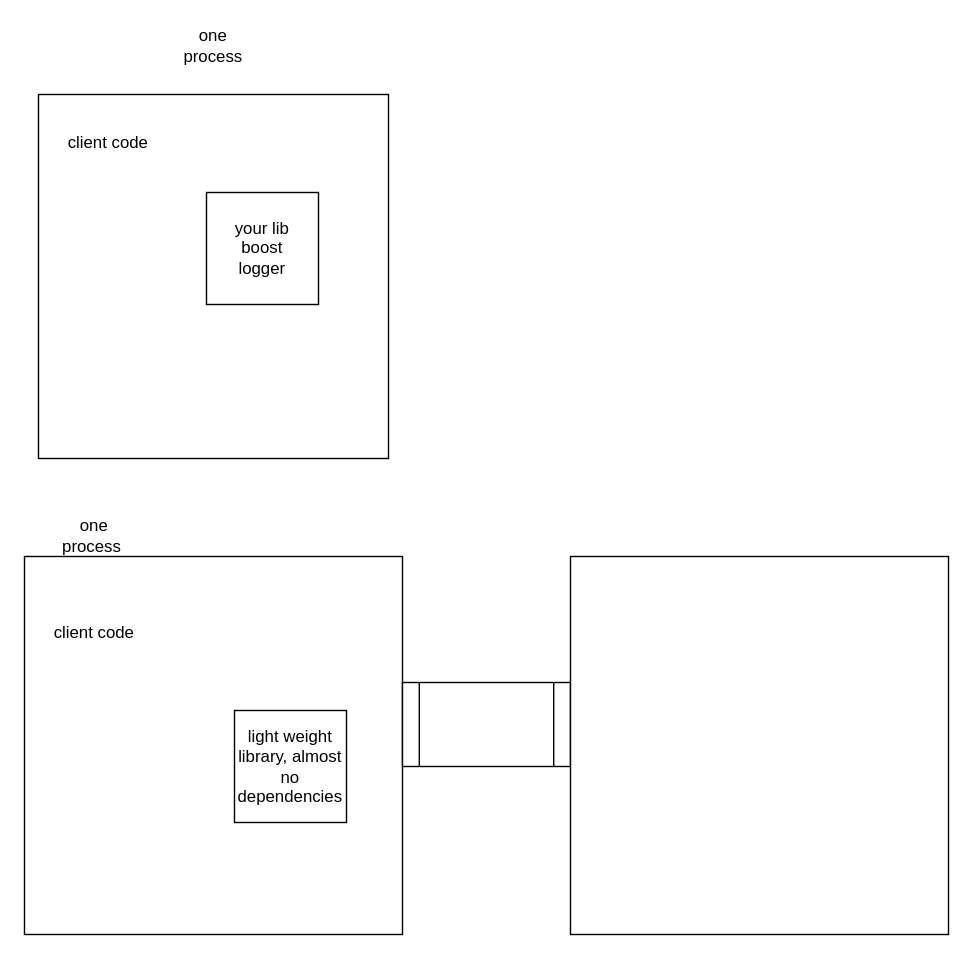
This 973x959 diagram has some shape labels left out. The shapes that lost their labels are listed below. From the top down, each one's box as (x1, y1, x2, y2) in pixels, then its label:
(401, 681, 570, 766): shared memory
(569, 555, 948, 934): your process, with any libraries you want
